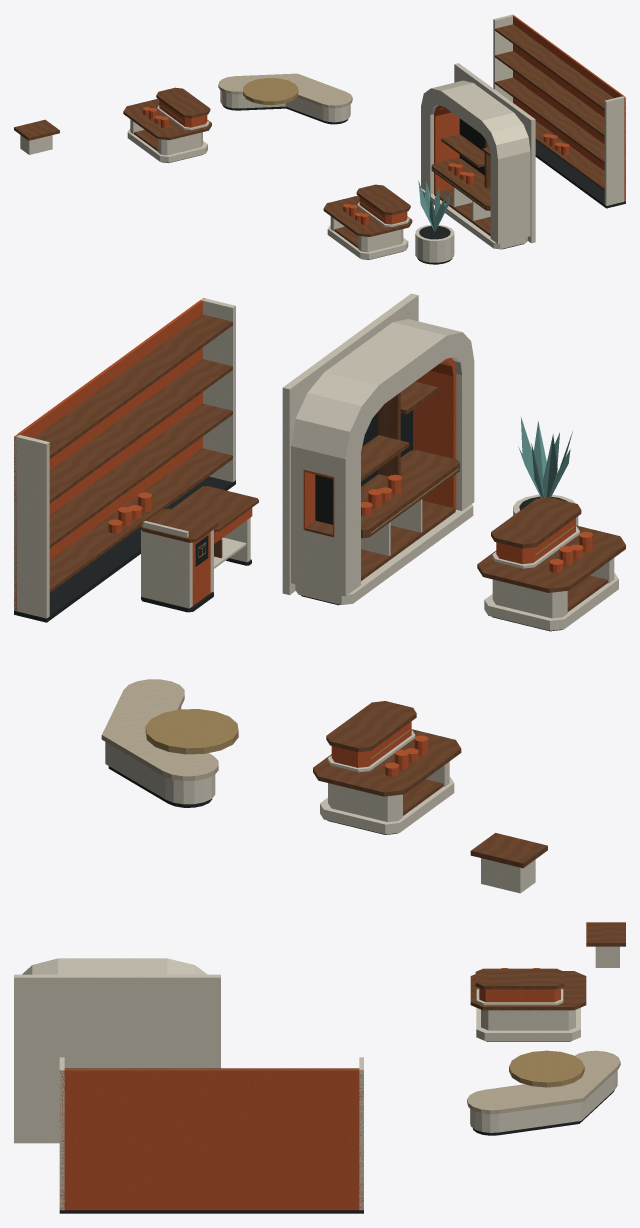
Rendered from SHOP_D09_P72_F392__fitout.glb.
3 renders of one model, top to bottom at view 1: azimuth 30°, elevation 25°; view 2: azimuth 150°, elevation 25°; view 3: azimuth 270°, elevation 25°, orthographic. The views are drawn at different scales.
Visible parts, largest first — view 1: SHOP_D09_P72_F392__fitout__ivory_enamel, SHOP_D09_P72_F392__fitout__warm_walnut, SHOP_D09_P72_F392__fitout__retail_terracotta_enamel, SHOP_D09_P72_F392__fitout__dark_rubber, SHOP_D09_P72_F392__fitout__oatmeal_weave, SHOP_D09_P72_F392__fitout__champagne_metal, SHOP_D09_P72_F392__fitout__quiet_teal; view 2: SHOP_D09_P72_F392__fitout__ivory_enamel, SHOP_D09_P72_F392__fitout__warm_walnut, SHOP_D09_P72_F392__fitout__retail_terracotta_enamel, SHOP_D09_P72_F392__fitout__dark_rubber, SHOP_D09_P72_F392__fitout__oatmeal_weave, SHOP_D09_P72_F392__fitout__champagne_metal, SHOP_D09_P72_F392__fitout__quiet_teal; view 3: SHOP_D09_P72_F392__fitout__retail_terracotta_enamel, SHOP_D09_P72_F392__fitout__ivory_enamel, SHOP_D09_P72_F392__fitout__warm_walnut, SHOP_D09_P72_F392__fitout__oatmeal_weave, SHOP_D09_P72_F392__fitout__champagne_metal, SHOP_D09_P72_F392__fitout__dark_rubber.
Part boxes in pixels (x1=…): SHOP_D09_P72_F392__fitout__ivory_enamel: x1=20, y1=14, x2=625, y2=262; SHOP_D09_P72_F392__fitout__warm_walnut: x1=14, y1=24, x2=613, y2=248; SHOP_D09_P72_F392__fitout__retail_terracotta_enamel: x1=143, y1=15, x2=625, y2=225; SHOP_D09_P72_F392__fitout__dark_rubber: x1=161, y1=105, x2=625, y2=264; SHOP_D09_P72_F392__fitout__oatmeal_weave: x1=218, y1=73, x2=352, y2=108; SHOP_D09_P72_F392__fitout__champagne_metal: x1=160, y1=78, x2=484, y2=219; SHOP_D09_P72_F392__fitout__quiet_teal: x1=418, y1=180, x2=451, y2=231; SHOP_D09_P72_F392__fitout__ivory_enamel: x1=14, y1=293, x2=618, y2=893; SHOP_D09_P72_F392__fitout__warm_walnut: x1=34, y1=314, x2=625, y2=868; SHOP_D09_P72_F392__fitout__retail_terracotta_enamel: x1=14, y1=298, x2=593, y2=776; SHOP_D09_P72_F392__fitout__dark_rubber: x1=14, y1=410, x2=567, y2=834; SHOP_D09_P72_F392__fitout__oatmeal_weave: x1=101, y1=679, x2=218, y2=780; SHOP_D09_P72_F392__fitout__champagne_metal: x1=145, y1=468, x2=574, y2=759; SHOP_D09_P72_F392__fitout__quiet_teal: x1=518, y1=416, x2=572, y2=498; SHOP_D09_P72_F392__fitout__retail_terracotta_enamel: x1=59, y1=968, x2=560, y2=1210; SHOP_D09_P72_F392__fitout__ivory_enamel: x1=14, y1=946, x2=619, y2=1210; SHOP_D09_P72_F392__fitout__warm_walnut: x1=64, y1=922, x2=625, y2=1069; SHOP_D09_P72_F392__fitout__oatmeal_weave: x1=467, y1=1050, x2=620, y2=1114; SHOP_D09_P72_F392__fitout__champagne_metal: x1=509, y1=1050, x2=584, y2=1087; SHOP_D09_P72_F392__fitout__dark_rubber: x1=59, y1=1041, x2=614, y2=1213.
Bounding box in the file's own units: 10.25 × 3 × 10.05.
Materials: 7 (6 with a texture image).
